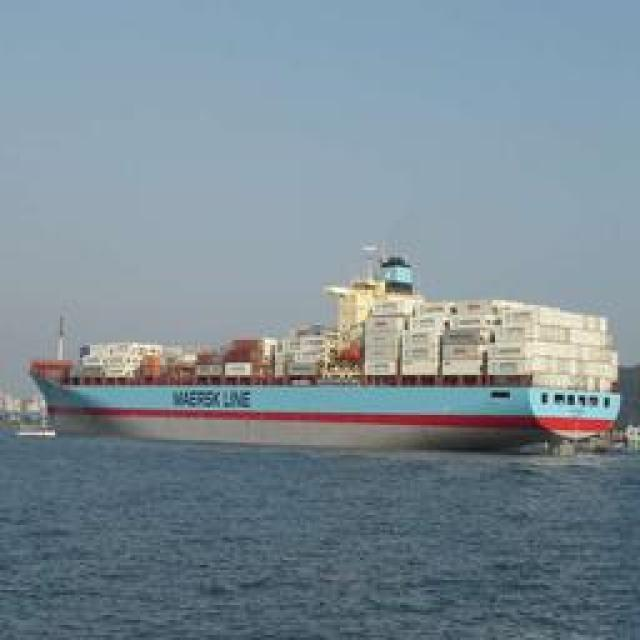CIV_Ship: (26, 238, 624, 448)
